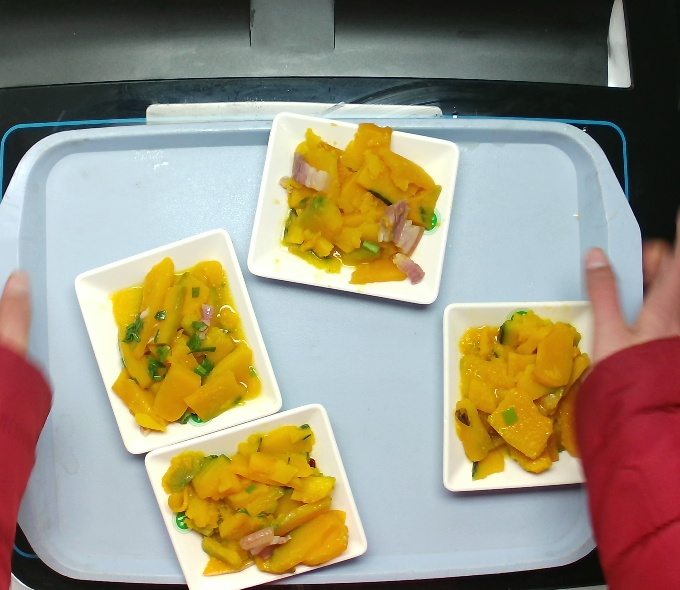wcq-NanGuaChaoLaRou: (155, 417, 354, 580), (102, 252, 267, 441), (270, 116, 447, 292), (445, 303, 605, 485)
